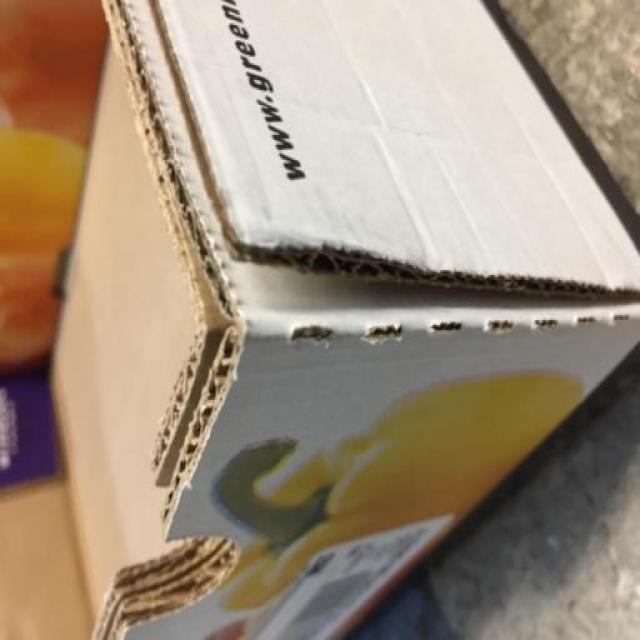cardboard: (50, 4, 640, 640)
